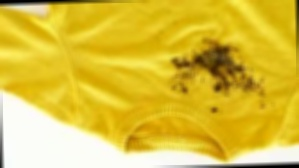earth: (169, 38, 258, 95)
